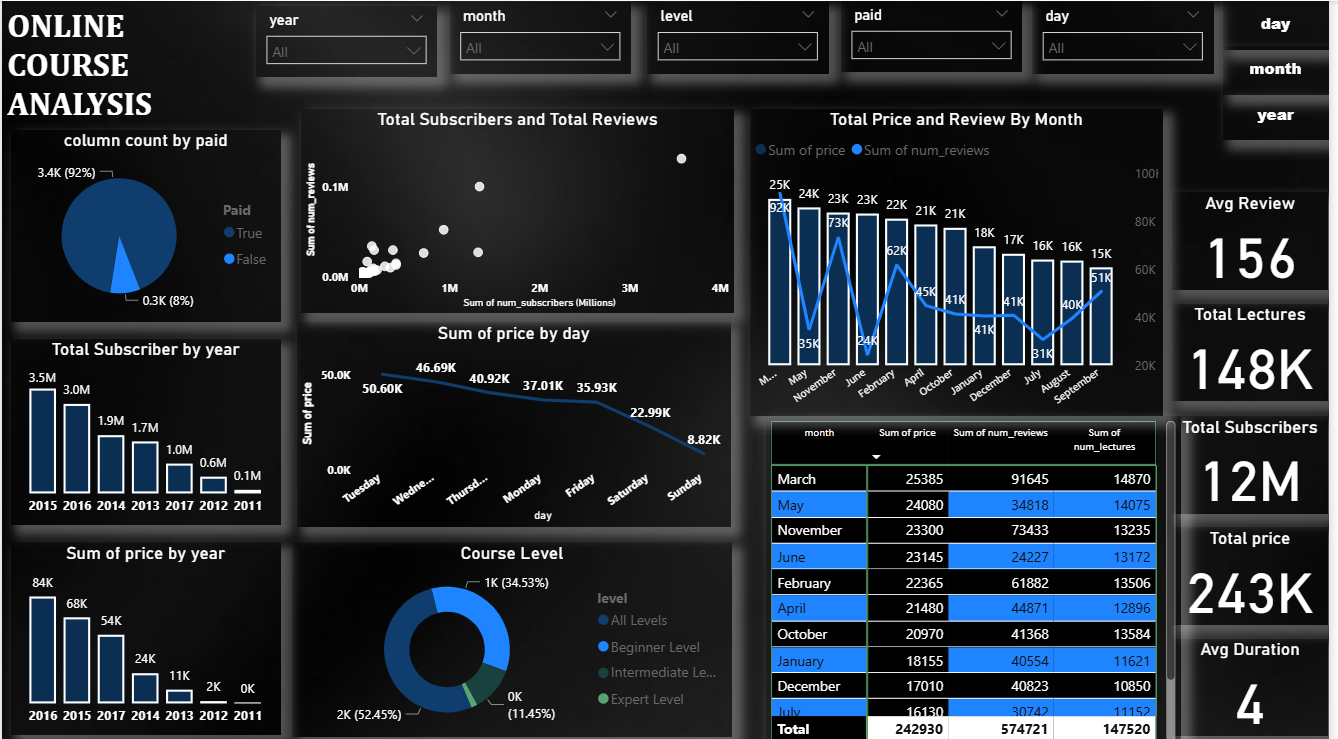

What the dashboard file says about the page in this screenshot:
{"tool":"powerbi","page":{"name":"Page 1","canvas":[1280,720],"ordinal":0},"visuals":[{"type":"columnChart","fields":{"Y":["Sum(udemy_online_education_courses_dataset.price)"],"Category":["udemy_online_education_courses_dataset.year"]},"box":[8.4,522.2,260.5,185.7],"z":0},{"type":"lineChart","fields":{"Category":["udemy_online_education_courses_dataset.day"],"Y":["Sum(udemy_online_education_courses_dataset.price)"]},"box":[284.6,309.9,418.5,197.8],"z":1000},{"type":"columnChart","title":"Total Subscriber by year","fields":{"Y":["Sum(udemy_online_education_courses_dataset.num_subscribers)"],"Category":["udemy_online_education_courses_dataset.year"]},"box":[8.4,325.6,260.5,179.7],"z":2000},{"type":"textbox","box":[0,0,244.8,147.1],"z":3000},{"type":"card","title":"Avg Review","fields":{"Values":["Avg(udemy_online_education_courses_dataset.num_reviews)"]},"box":[1128.8,184.5,150.8,94.1],"z":3000,"group":"g1"},{"type":"pieChart","title":"column count by paid","fields":{"Category":["udemy_online_education_courses_dataset.is_paid"],"Y":["udemy_online_education_courses_dataset.column count"]},"box":[8.4,124.2,260.5,185.7],"z":4000},{"type":"card","title":"Total Lectures","fields":{"Values":["Sum(udemy_online_education_courses_dataset.num_lectures)"]},"box":[1128.8,292.1,150.8,94.1],"z":4000,"group":"g1"},{"type":"slicer","fields":{"Values":["udemy_online_education_courses_dataset.year"]},"box":[244.8,4.8,174.9,68.7],"z":5000,"group":"g2"},{"type":"card","title":"Total Subscribers","fields":{"Values":["Sum(udemy_online_education_courses_dataset.num_subscribers)"]},"box":[1128.8,399.8,150.8,94.1],"z":5000,"group":"g1"},{"type":"slicer","fields":{"Values":["udemy_online_education_courses_dataset.month"]},"box":[431.7,1.2,174.9,68.7],"z":6000,"group":"g2"},{"type":"card","title":"Total price","fields":{"Values":["Sum(udemy_online_education_courses_dataset.price)"]},"box":[1128.8,507.4,150.8,94.1],"z":6000,"group":"g1"},{"type":"card","title":"Total Subscribers","fields":{"Values":["udemy_online_education_courses_dataset.monss"]},"box":[1178.3,43.4,101.3,47],"z":7000},{"type":"card","title":"Avg Duration","fields":{"Values":["Avg(udemy_online_education_courses_dataset.content_duration)"]},"box":[1128.8,615.1,150.8,94.1],"z":7000,"group":"g1"},{"type":"slicer","fields":{"Values":["udemy_online_education_courses_dataset.level"]},"box":[622.3,1.2,174.9,68.7],"z":8000,"group":"g2"},{"type":"slicer","fields":{"Values":["udemy_online_education_courses_dataset.is_paid"]},"box":[809.2,0,174.9,68.7],"z":9000,"group":"g2"},{"type":"donutChart","title":"Course Level","fields":{"Y":["udemy_online_education_courses_dataset.column count"],"Category":["udemy_online_education_courses_dataset.level"]},"box":[279.8,522.2,424.5,188.1],"z":10000},{"type":"card","title":"Total Subscribers","fields":{"Values":["udemy_online_education_courses_dataset.selected year"]},"box":[1178.3,90.5,101.3,43.4],"z":11000},{"type":"group","id":"g1","title":"Group 1","box":[1128.8,184.5,150.8,524.6],"z":12000},{"type":"card","title":"Total Subscribers","fields":{"Values":["udemy_online_education_courses_dataset.selected day"]},"box":[1178.3,0,101.3,47],"z":13000},{"type":"slicer","fields":{"Values":["udemy_online_education_courses_dataset.day"]},"box":[993.7,1.2,174.9,68.7],"z":14000,"group":"g2"},{"type":"pivotTable","fields":{"Values":["Sum(udemy_online_education_courses_dataset.price)","Sum(udemy_online_education_courses_dataset.num_reviews)","Sum(udemy_online_education_courses_dataset.num_lectures)"],"Rows":["udemy_online_education_courses_dataset.month"]},"box":[736.9,400.4,400.4,319.6],"z":15000},{"type":"lineClusteredColumnComboChart","title":"Total Price and Review By Month","fields":{"Category":["udemy_online_education_courses_dataset.month"],"Y":["Sum(udemy_online_education_courses_dataset.price)"],"Y2":["Sum(udemy_online_education_courses_dataset.num_reviews)"]},"box":[721.2,103.7,399.2,296.7],"z":16000},{"type":"group","id":"g2","title":"Group 2","box":[244.8,0,923.8,73.6],"z":17001},{"type":"scatterChart","title":"Total Subscribers and Total Reviews","fields":{"X":["Sum(udemy_online_education_courses_dataset.num_subscribers)"],"Y":["Sum(udemy_online_education_courses_dataset.num_reviews)"],"Category":["udemy_online_education_courses_dataset.price"]},"box":[288.2,103.7,418.5,197.8],"z":17003}]}

Visuals, with their boxes in screenshot pixels (x1, y1, x2, y2), scaled from the page's 1280x720 canvas onto the 1338x739 screenshot:
columnChart - Sum(udemy_online_education_courses_dataset.price) x udemy_online_education_courses_dataset.year: crop(9, 536, 281, 727)
lineChart - udemy_online_education_courses_dataset.day x Sum(udemy_online_education_courses_dataset.price): crop(297, 318, 735, 521)
"Total Subscriber by year" columnChart: crop(9, 334, 281, 519)
textbox: crop(0, 0, 256, 151)
"Avg Review" card: crop(1180, 189, 1337, 286)
"column count by paid" pieChart: crop(9, 127, 281, 318)
"Total Lectures" card: crop(1180, 300, 1337, 396)
slicer - udemy_online_education_courses_dataset.year: crop(256, 5, 439, 75)
"Total Subscribers" card: crop(1180, 410, 1337, 507)
slicer - udemy_online_education_courses_dataset.month: crop(451, 1, 634, 72)
"Total price" card: crop(1180, 521, 1337, 617)
"Total Subscribers" card: crop(1232, 45, 1337, 93)
"Avg Duration" card: crop(1180, 631, 1337, 728)
slicer - udemy_online_education_courses_dataset.level: crop(650, 1, 833, 72)
slicer - udemy_online_education_courses_dataset.is_paid: crop(846, 0, 1029, 71)
"Course Level" donutChart: crop(292, 536, 736, 729)
"Total Subscribers" card: crop(1232, 93, 1337, 137)
"Group 1" group: crop(1180, 189, 1337, 728)
"Total Subscribers" card: crop(1232, 0, 1337, 48)
slicer - udemy_online_education_courses_dataset.day: crop(1039, 1, 1222, 72)
pivotTable - Sum(udemy_online_education_courses_dataset.price) x Sum(udemy_online_education_courses_dataset.num_reviews): crop(770, 411, 1189, 738)
"Total Price and Review By Month" lineClusteredColumnComboChart: crop(754, 106, 1171, 411)
"Group 2" group: crop(256, 0, 1222, 76)
"Total Subscribers and Total Reviews" scatterChart: crop(301, 106, 739, 309)
